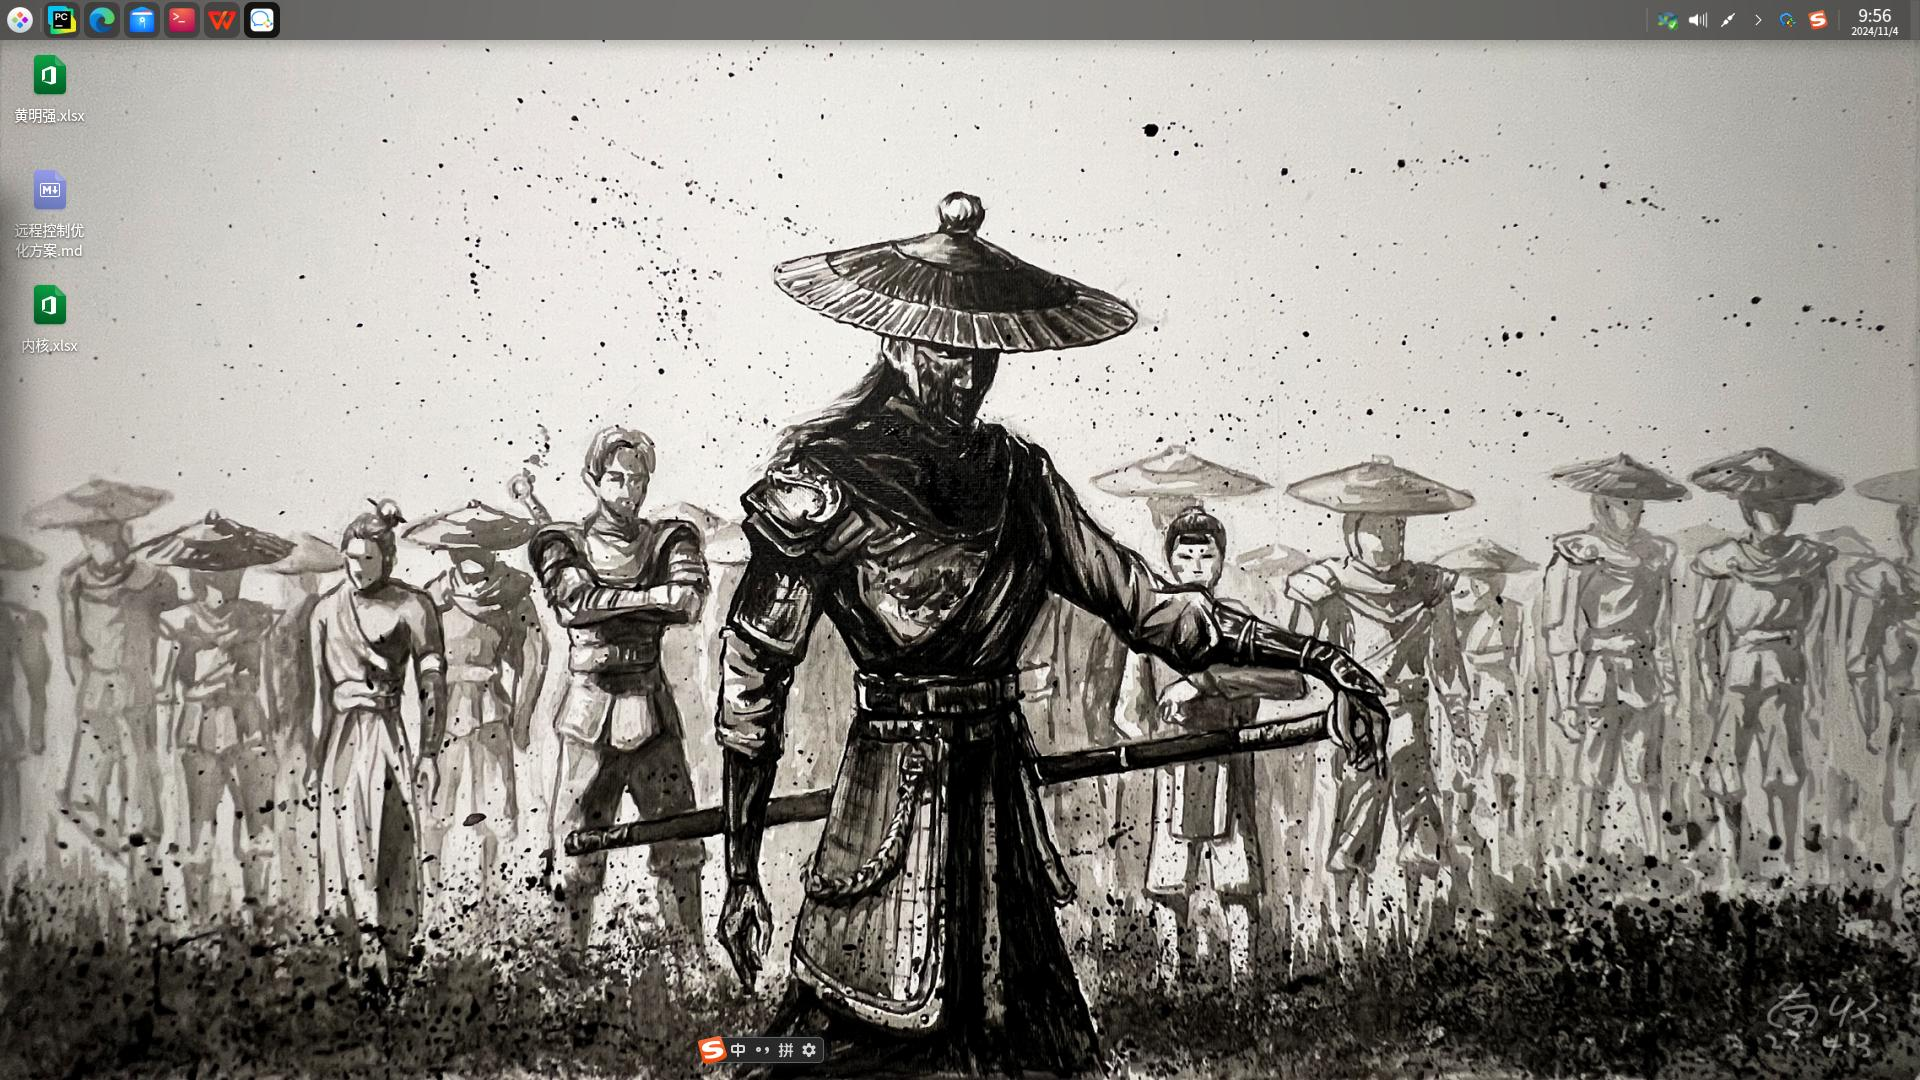dde_file_manager_icon: (128, 3, 156, 36)
dde_launcher_icon: (7, 3, 36, 36)
